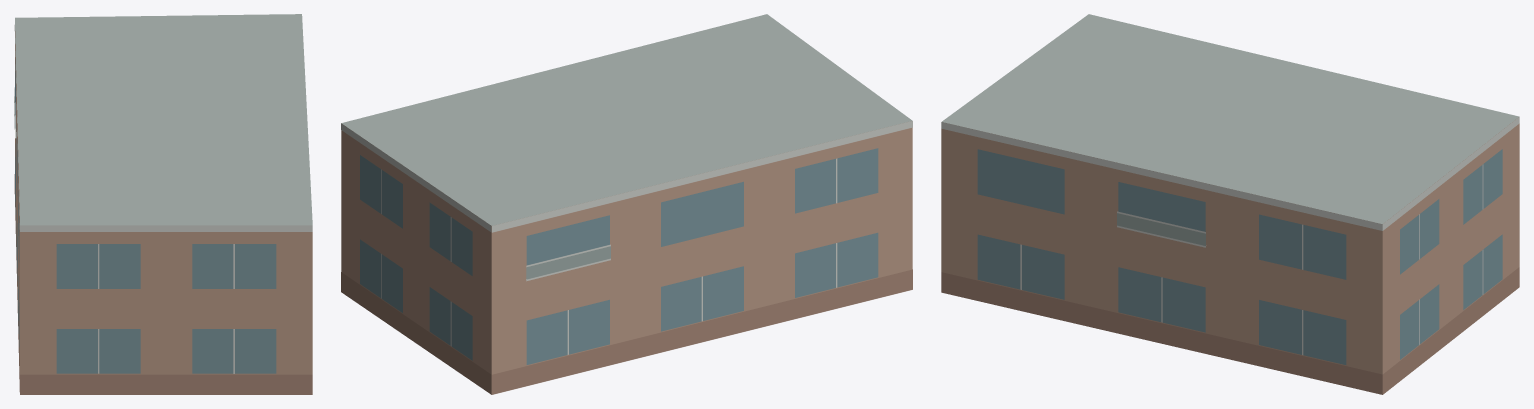
The model's file is survey-upis-32869813.glb.
3 views of the same model, side by side, from view 1: azimuth 30°, elevation 25°; view 2: azimuth 150°, elevation 25°; view 3: azimuth 270°, elevation 25° (orthographic).
Visible parts, largest first — view 1: survey-upis-32869813.tmp; view 2: survey-upis-32869813.tmp; view 3: survey-upis-32869813.tmp.
Part boxes in pixels (bbox=[...]): survey-upis-32869813.tmp: bbox=[14, 14, 312, 394]; survey-upis-32869813.tmp: bbox=[341, 14, 912, 394]; survey-upis-32869813.tmp: bbox=[941, 14, 1519, 394].
Bounding box in the file's own units: 16.12 × 6.1 × 18.74.
